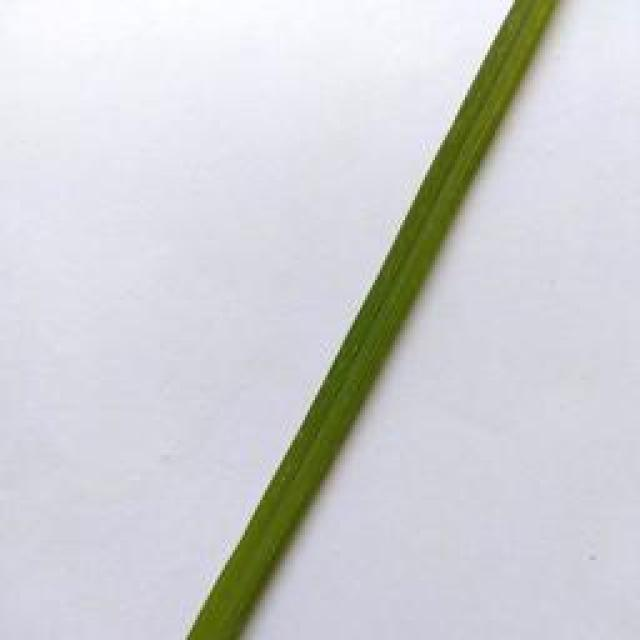Healthy-Plant: (192, 0, 558, 640)
